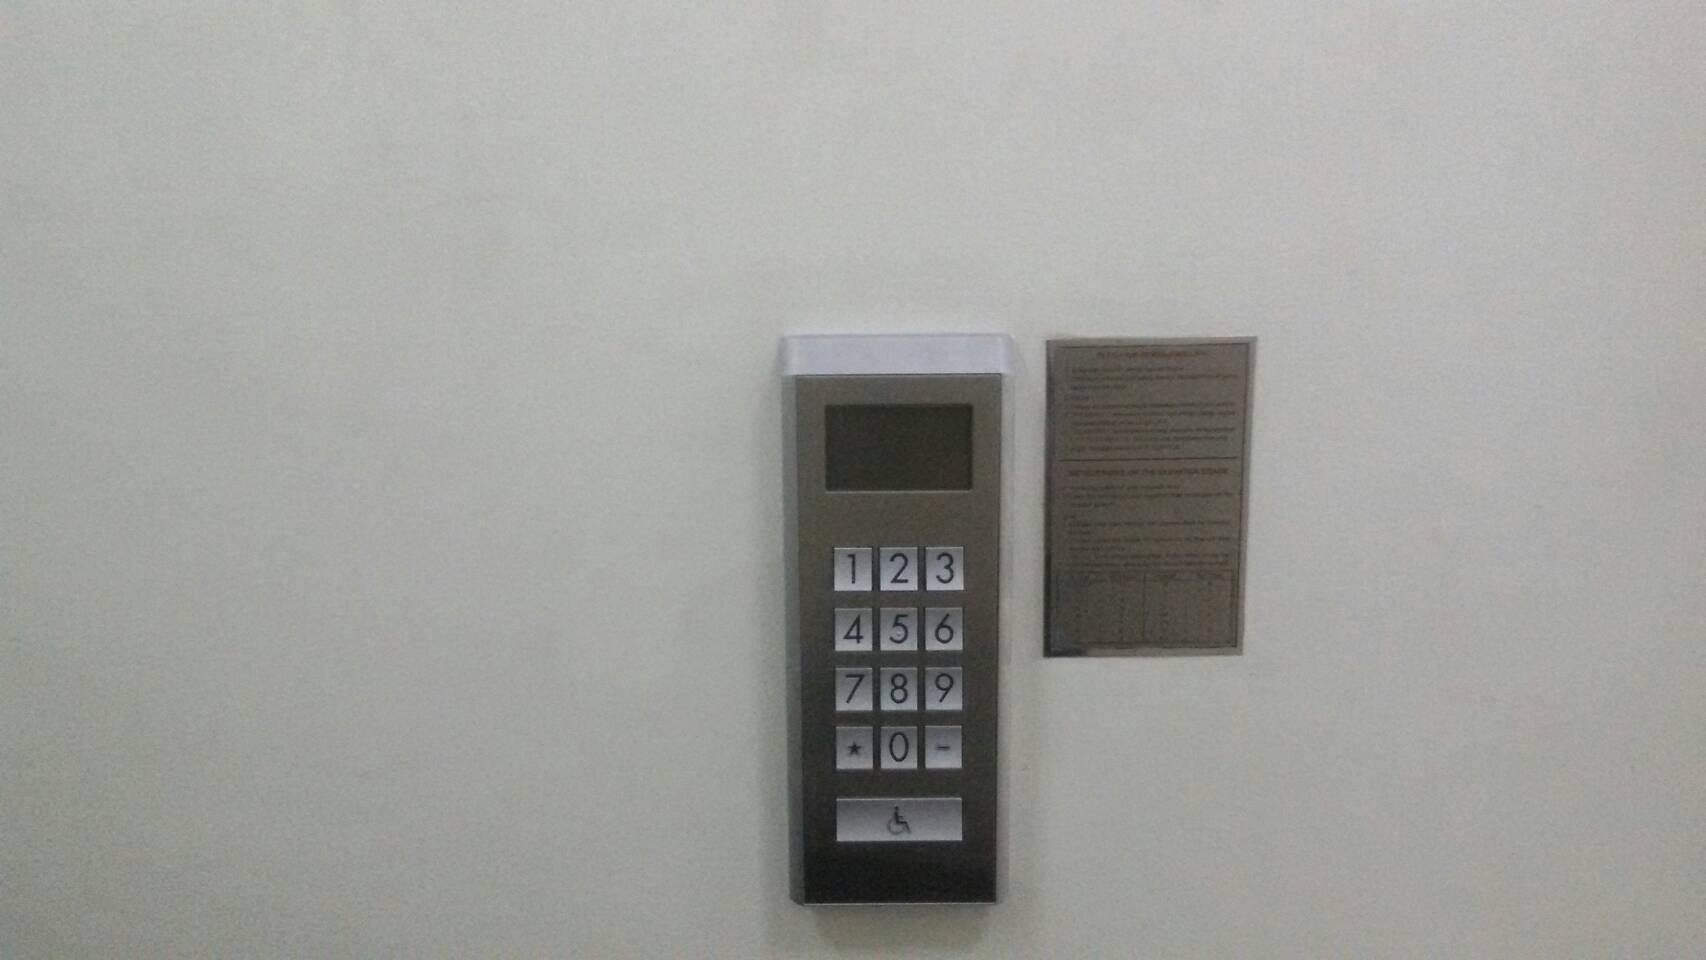-: (924, 724, 963, 770)
0: (880, 726, 917, 770)
1: (833, 547, 873, 592)
2: (879, 546, 919, 593)
3: (924, 546, 964, 591)
4: (833, 605, 873, 652)
5: (878, 606, 919, 652)
6: (924, 607, 964, 651)
7: (834, 666, 874, 712)
8: (879, 666, 917, 712)
9: (923, 665, 963, 713)
CH: (835, 798, 963, 842)
led: (821, 401, 976, 493)
s: (835, 726, 873, 771)
